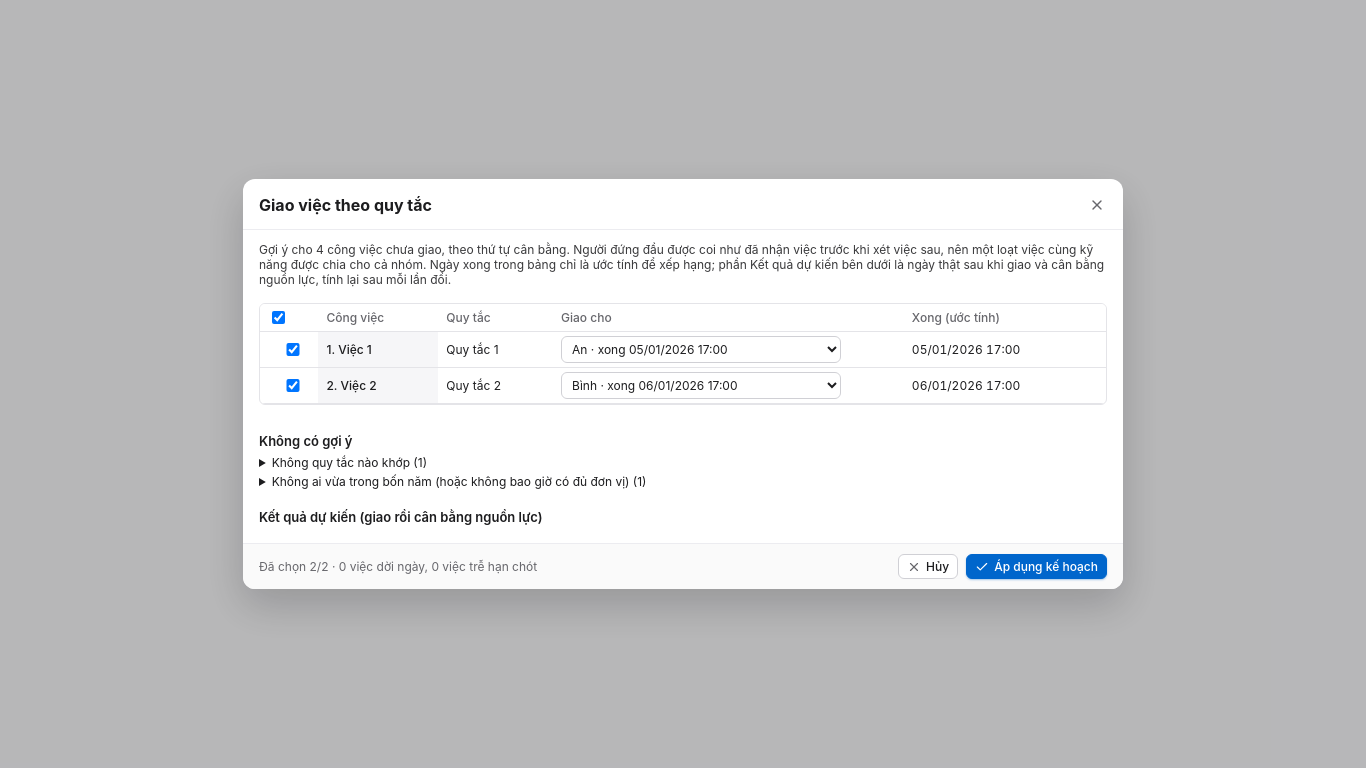
Scenario: AssignPreviewDialog › marks the all box half ticked when only some rows are
Click the checkbox named "Áp dụng cho 2. Việc 2".
click(293, 386)  # box top-left (272, 379), bottom-right (314, 392)
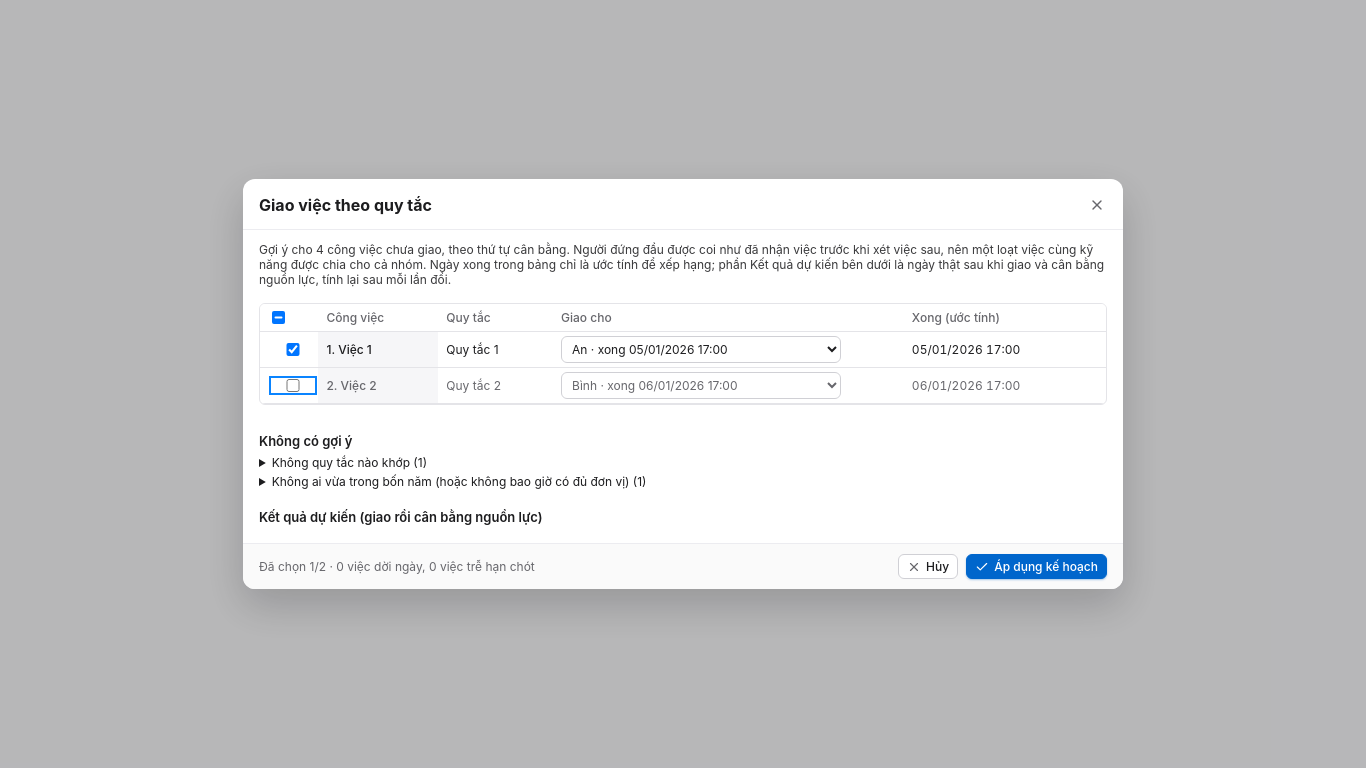
Expected: the checkbox named "Áp dụng cho mọi công việc" is not checked, top-left (272, 311), bottom-right (285, 324)
